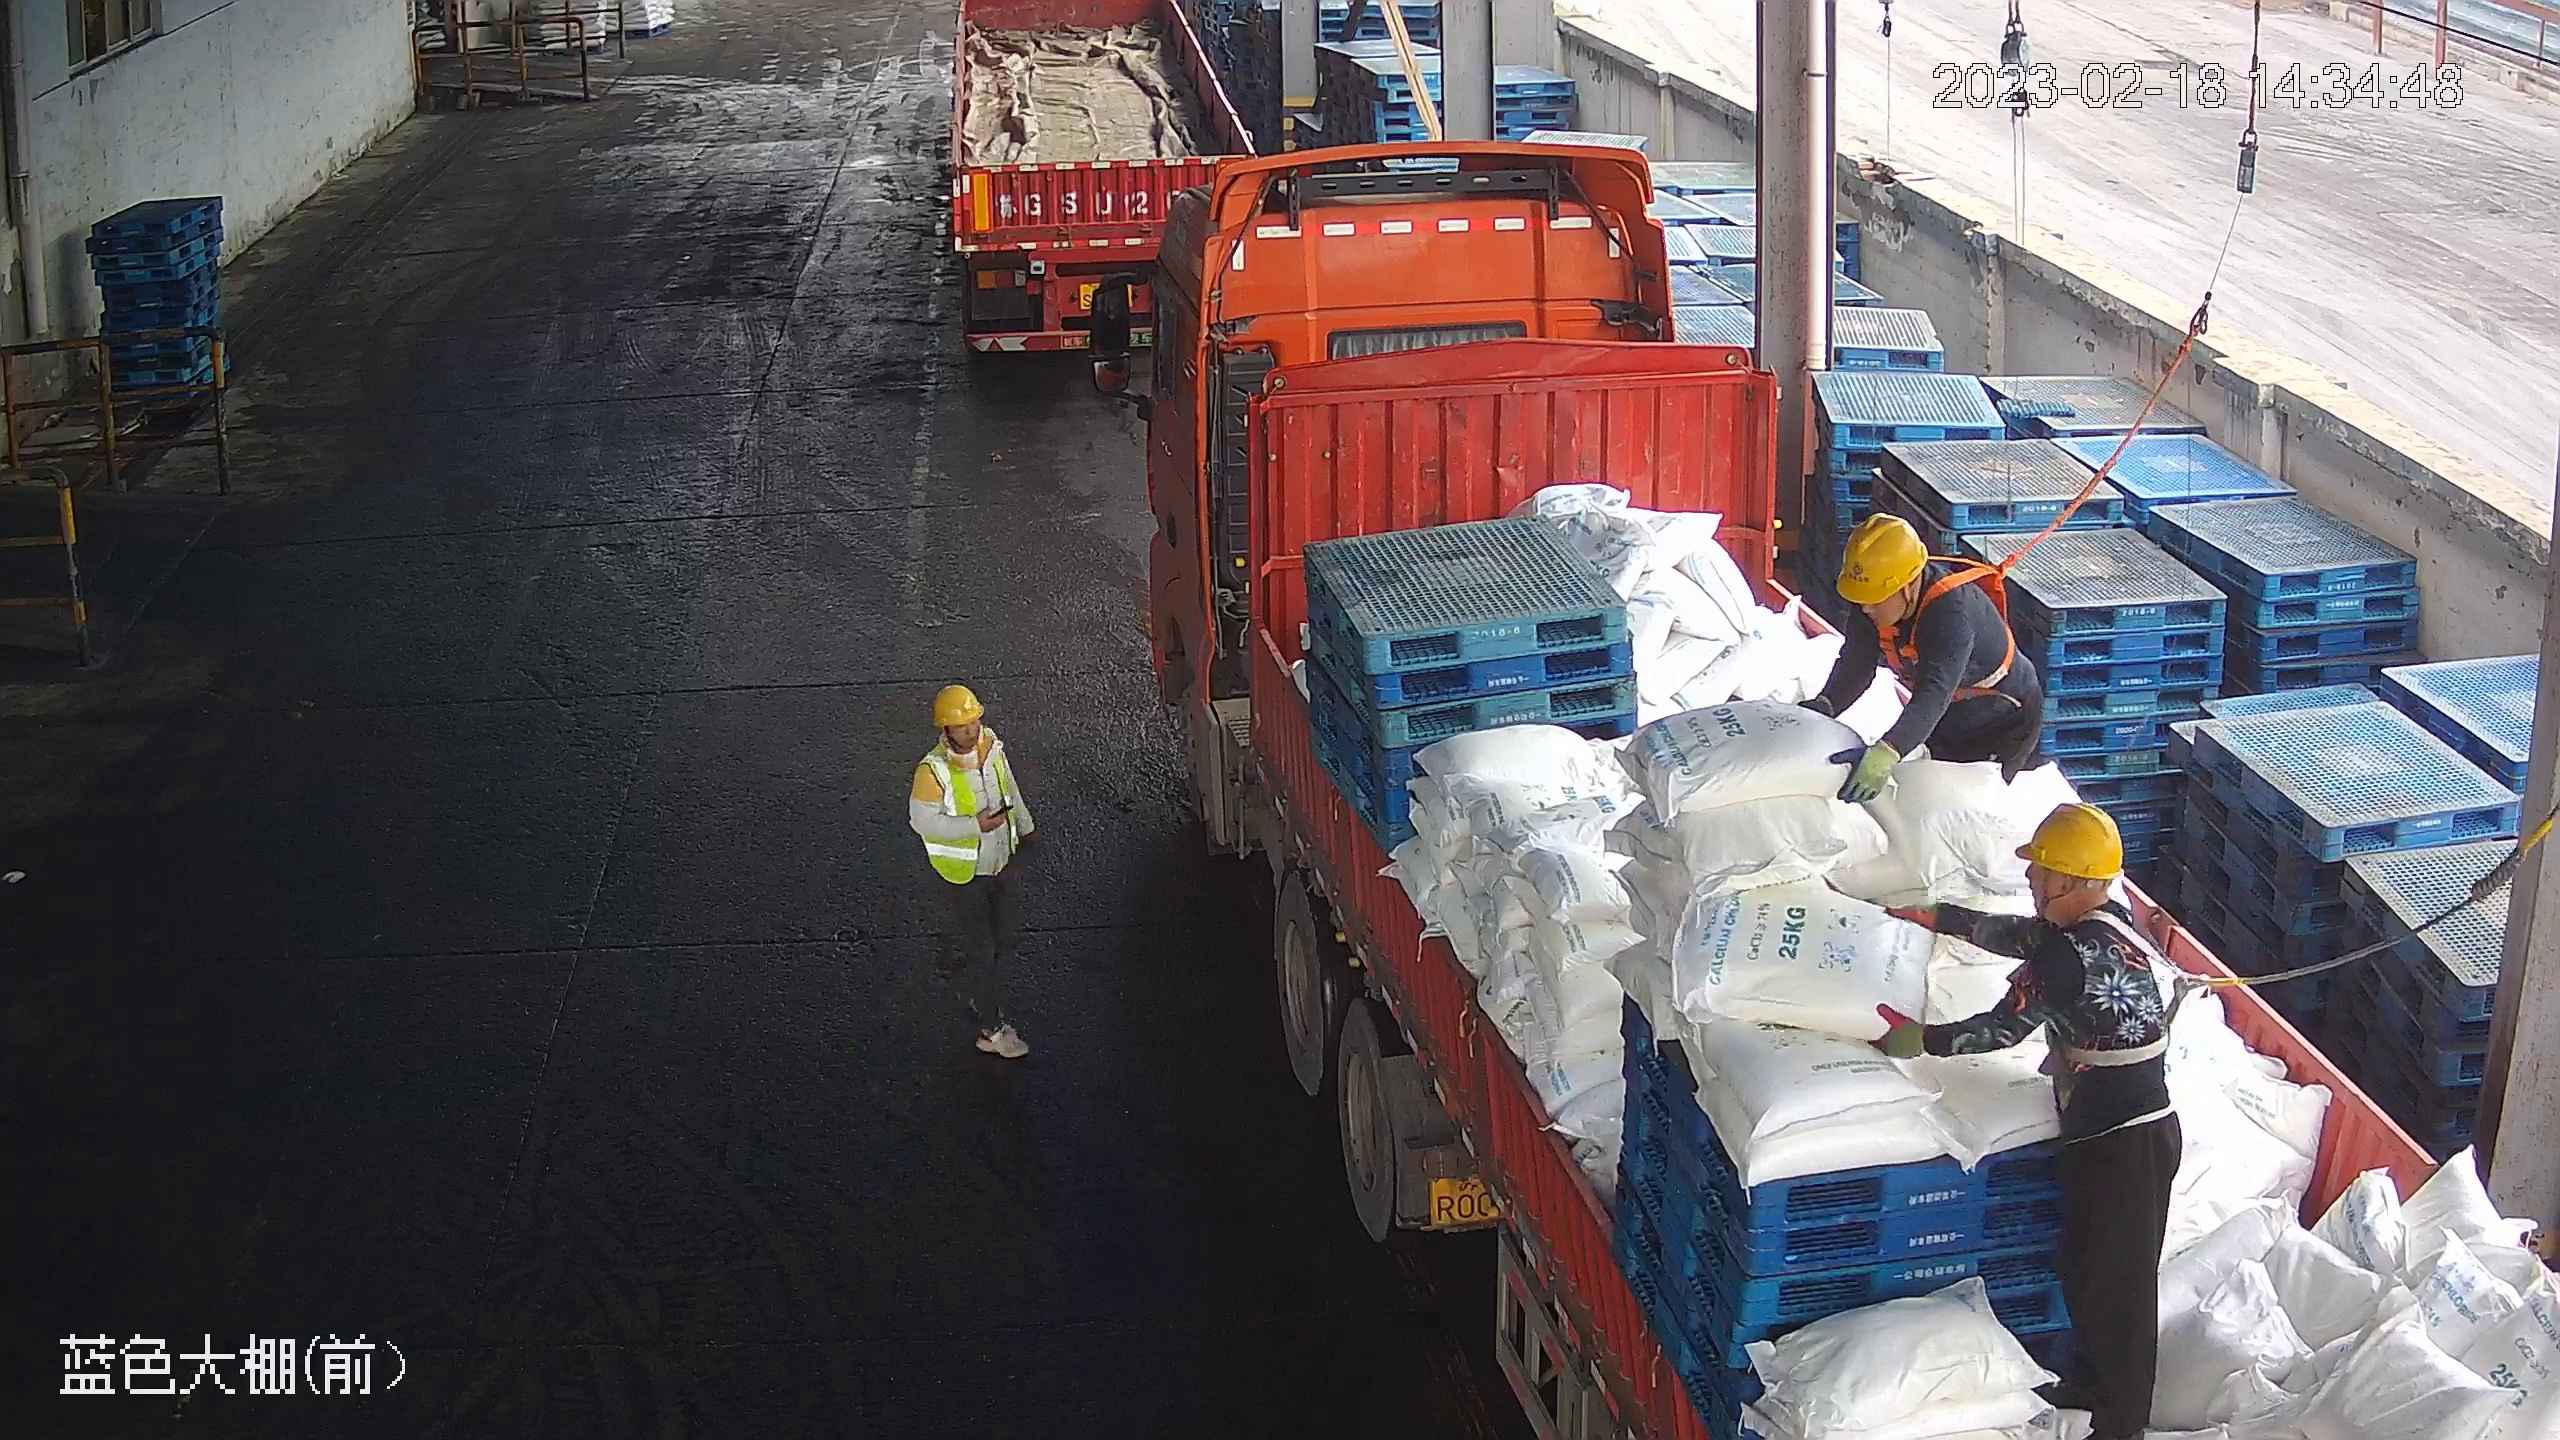belt: (1849, 550, 2035, 708), (2069, 900, 2230, 1069)
head: (1979, 806, 2167, 1033), (1832, 513, 1995, 686), (896, 681, 1017, 818)
helmet: (2017, 806, 2127, 888), (1834, 511, 1930, 603), (929, 686, 984, 725)
people: (1871, 801, 2186, 1440), (1803, 513, 2042, 815), (896, 681, 1045, 1057)
truck: (1081, 133, 2560, 1440), (945, 1, 1271, 386)
